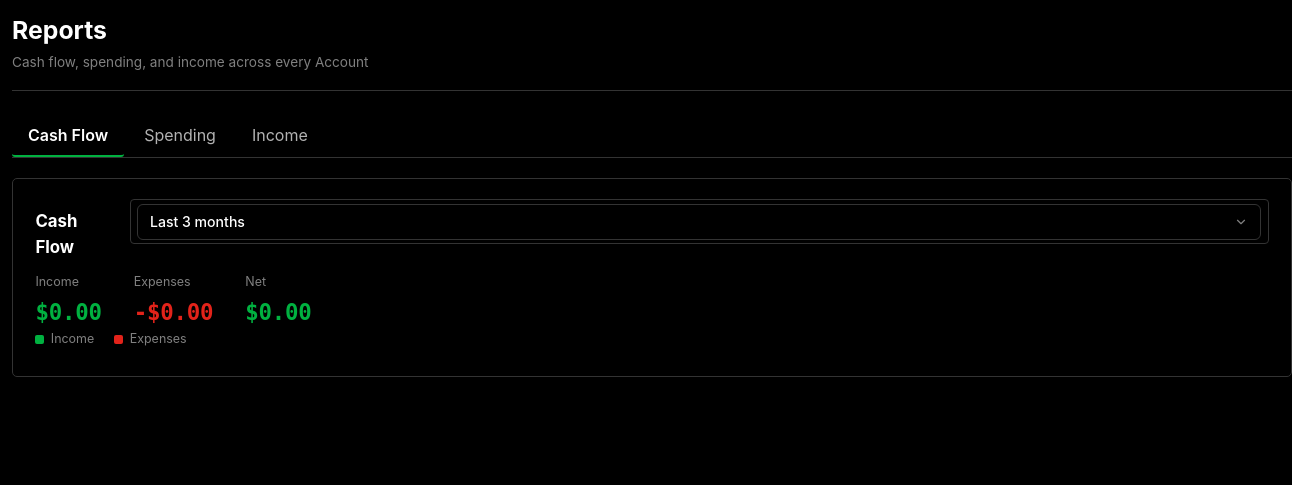
Test: ReportsScreen Spending tab › renders per-Category expense totals from mocked data, including an Uncategorized bucket
Click the tab "Spending": {"x": 180, "y": 136} [128,115,232,157]
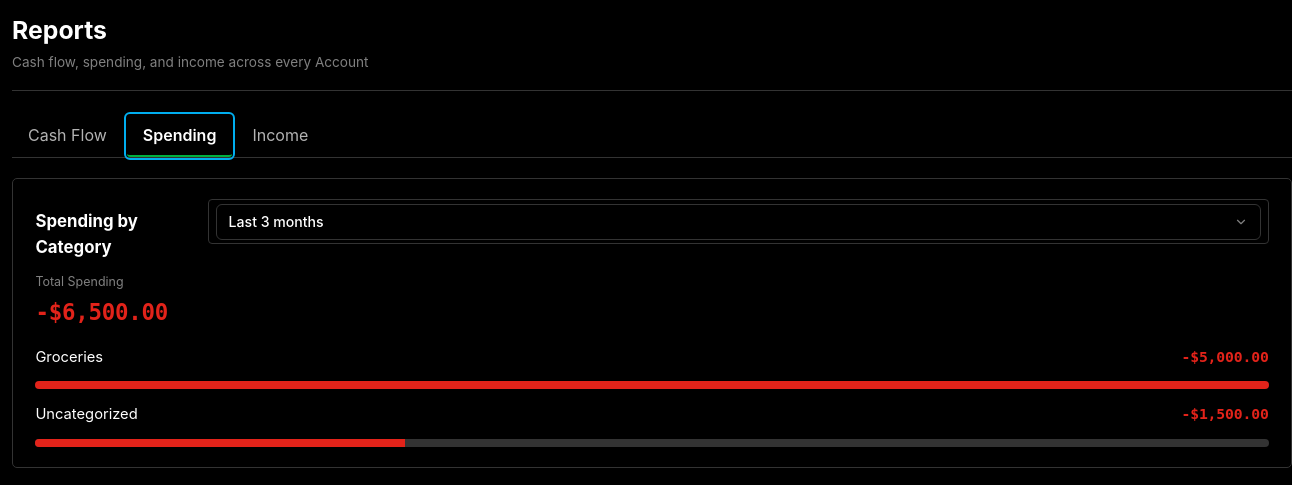
Expected: the text "Groceries" is shown, [35,346,103,368]
Expected: the text "-$5,000.00" is shown, [1182,346,1269,368]
Expected: the text "Uncategorized" is shown, [35,403,138,425]
